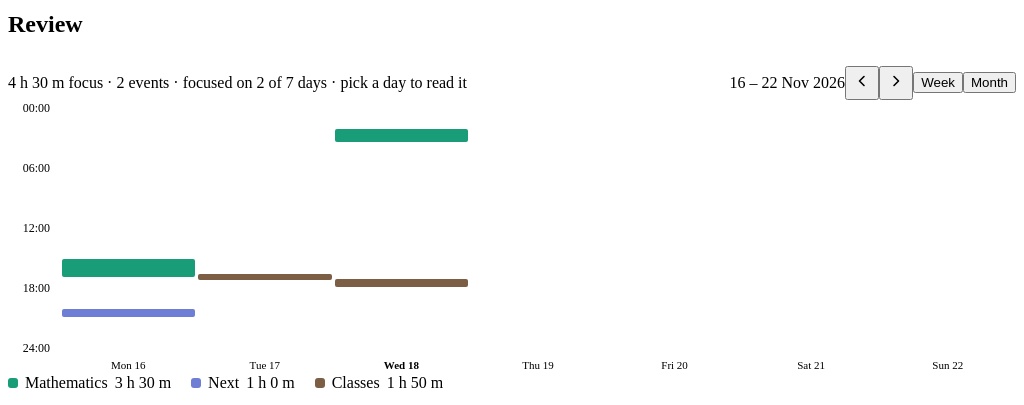
Scenario: ReviewPanel › reads a day under the pointer
Hover over the button with aria-label "Monday 16 November": (128, 241) 60,108 -> 197,374
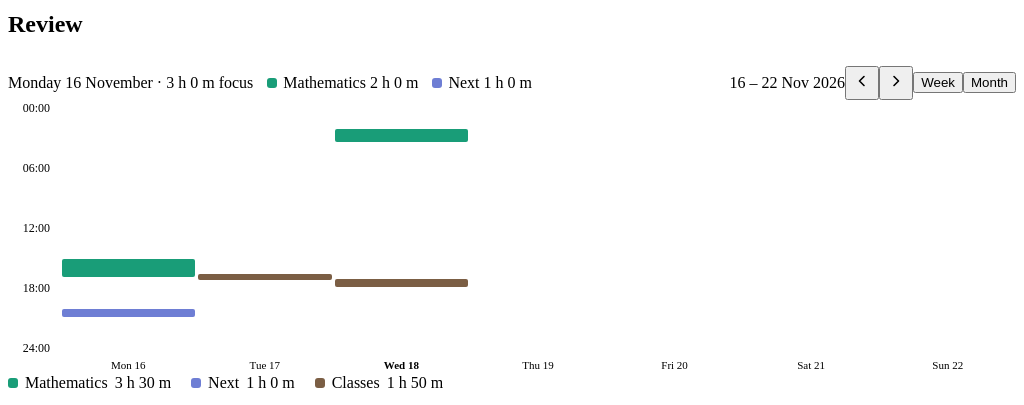
Expected: the text "Monday 16 November" is shown, 8,74 -> 153,92
Expected: the text "Mathematics 2 h 0 m" is shown, 267,74 -> 418,92
